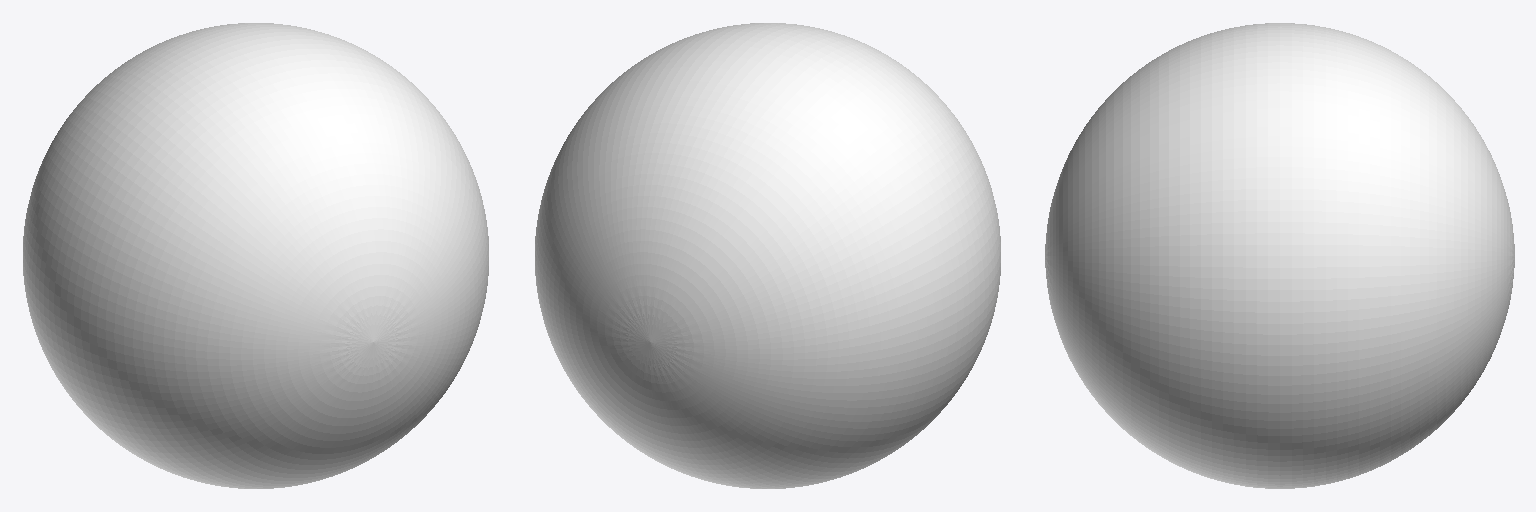
File: sun.obj
3 views of the same model, side by side, from view 1: azimuth 30°, elevation 25°; view 2: azimuth 150°, elevation 25°; view 3: azimuth 270°, elevation 25° (orthographic).
Parts seen in each view (by area): view 1: 13913_Sun; view 2: 13913_Sun; view 3: 13913_Sun.
Part boxes in pixels (left/top/right/bottom): 13913_Sun: left=23, top=23, right=488, bottom=488; 13913_Sun: left=535, top=23, right=1000, bottom=488; 13913_Sun: left=1045, top=23, right=1514, bottom=488.
Size of the model in its own units: 970 by 970 by 980.